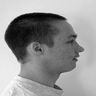ear: (29, 38, 48, 58)
